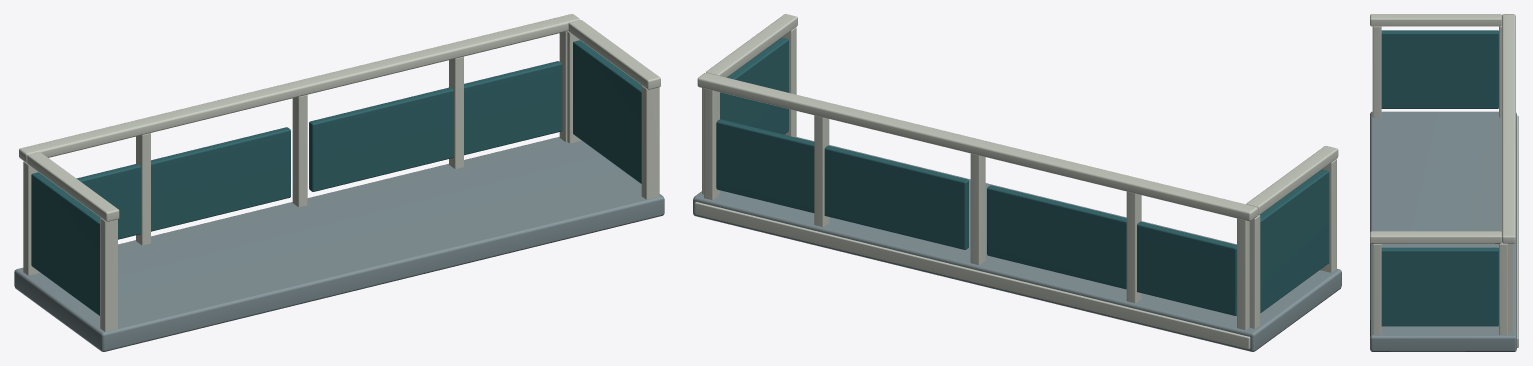
Rendered from d03_apartment_family_09.glb.
3 views of the same model, side by side, from view 1: azimuth 30°, elevation 25°; view 2: azimuth 150°, elevation 25°; view 3: azimuth 270°, elevation 25° (orthographic). The views are drawn at different scales.
Parts seen in each view (by area): view 1: D03ApartmentFamily09_Mesh; view 2: D03ApartmentFamily09_Mesh; view 3: D03ApartmentFamily09_Mesh.
Part boxes in pixels (x1=…): D03ApartmentFamily09_Mesh: x1=14, y1=14, x2=664, y2=351; D03ApartmentFamily09_Mesh: x1=693, y1=14, x2=1341, y2=351; D03ApartmentFamily09_Mesh: x1=1370, y1=14, x2=1518, y2=351.
Size of the model in its own units: 5.4 by 1.28 by 1.5.
